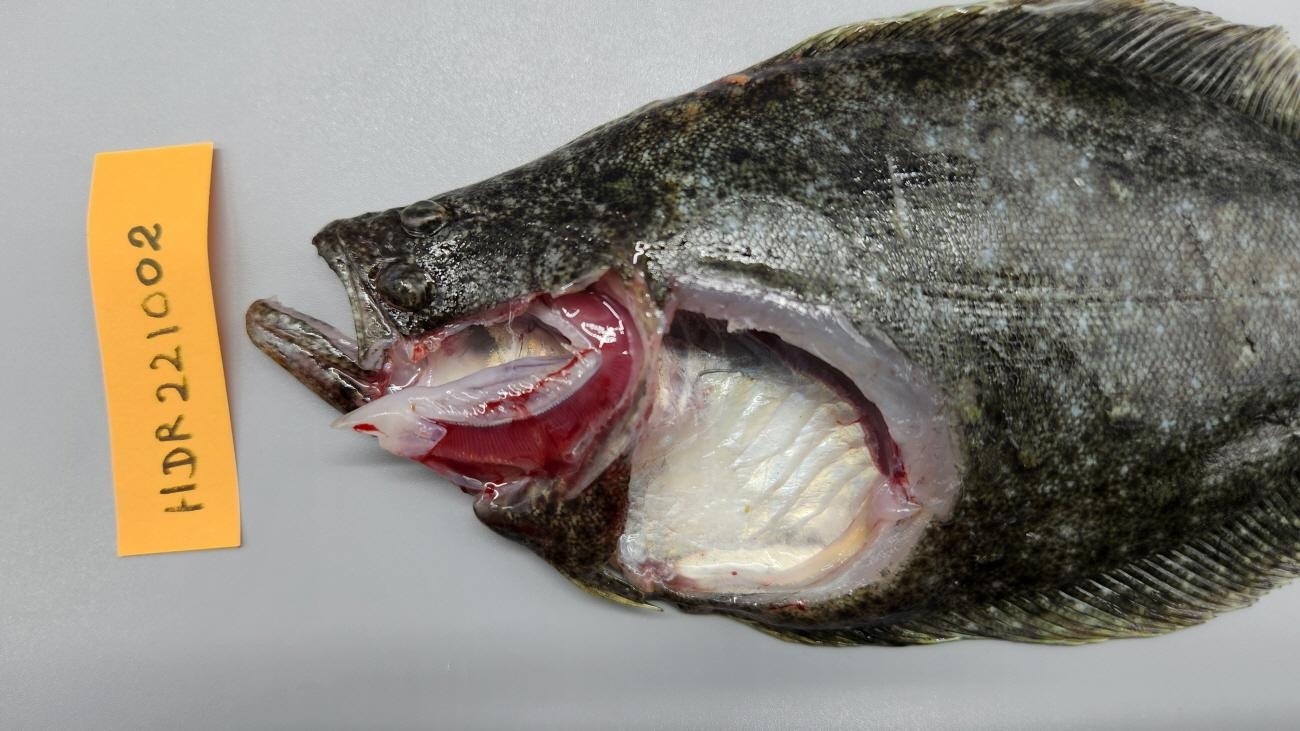POASN: (621, 340, 884, 592)
POKIN: (663, 310, 906, 480)
